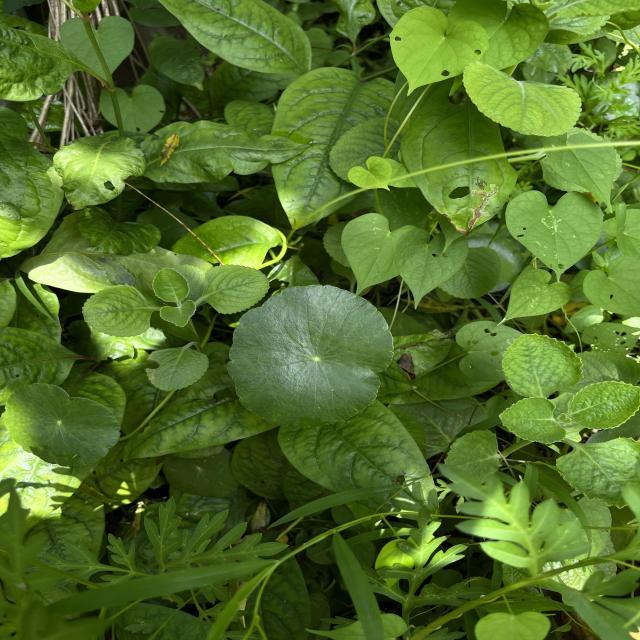Bacopa monnieri: (225, 281, 396, 432), (1, 380, 123, 470)
